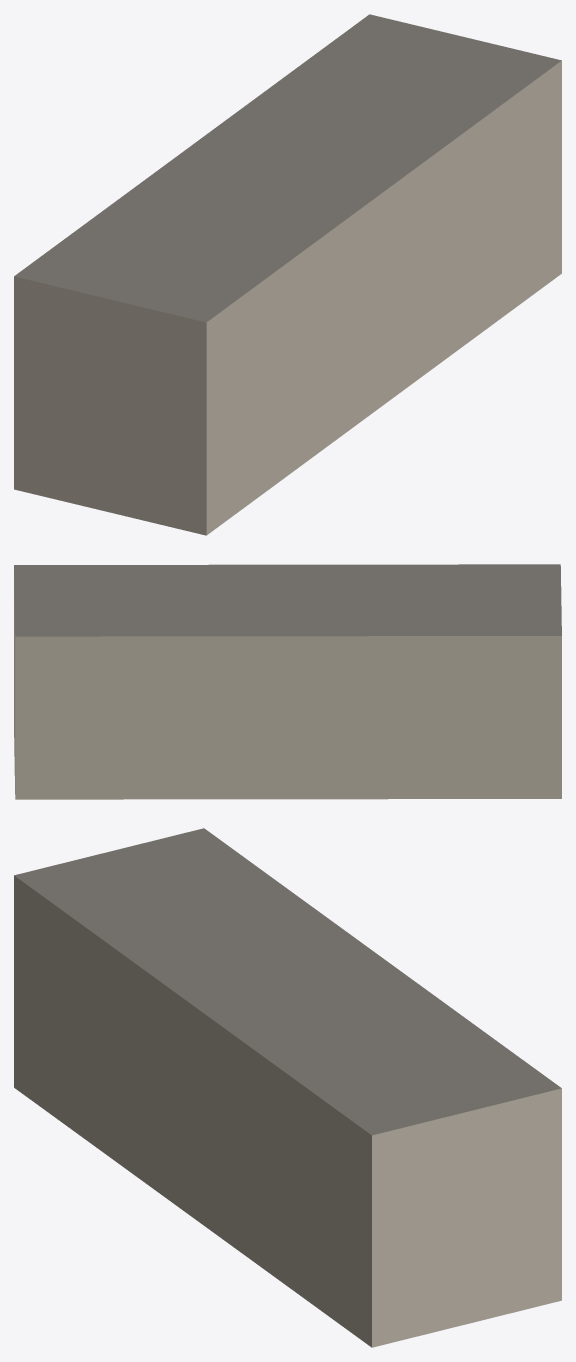
The picture shows the model from 3 angles, top to bottom: view 1: azimuth 30°, elevation 25°; view 2: azimuth 150°, elevation 25°; view 3: azimuth 270°, elevation 25°; orthographic projection. The views are drawn at different scales.
Parts seen in each view (by area): view 1: HP-w1286965188; view 2: HP-w1286965188; view 3: HP-w1286965188.
Part boxes in pixels (box(x1,y1,x2,y2)): HP-w1286965188: box(14, 14, 561, 535); HP-w1286965188: box(14, 564, 561, 799); HP-w1286965188: box(14, 828, 561, 1347).
Bounding box in the file's own units: 55.87 × 18 × 42.11.
